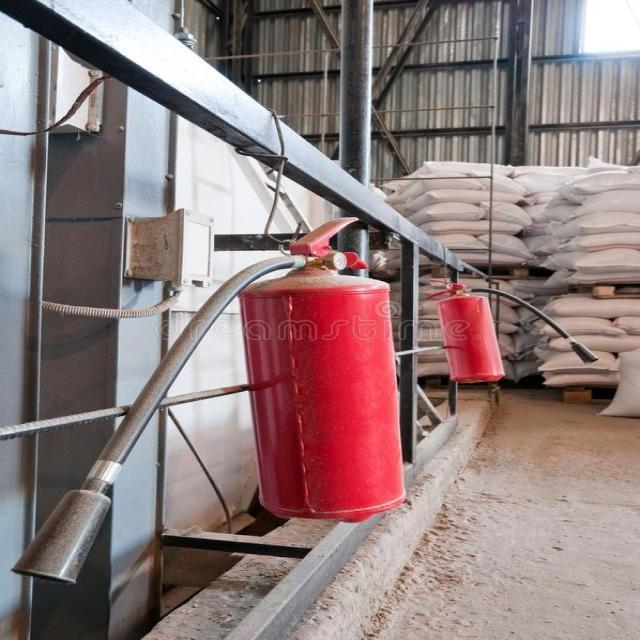fire_extinguisher: (0, 207, 425, 594), (423, 258, 604, 388)
